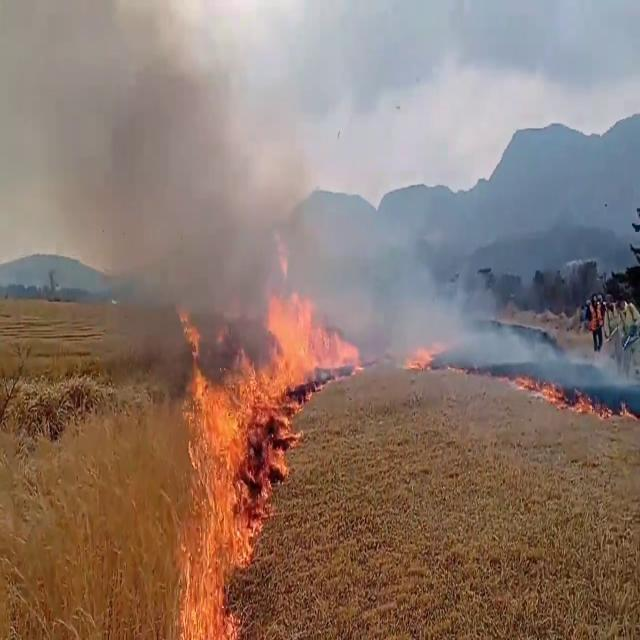Fire: (168, 336, 288, 634), (259, 276, 365, 381), (402, 334, 442, 374)
Smoke: (0, 1, 329, 352), (336, 220, 524, 370)
